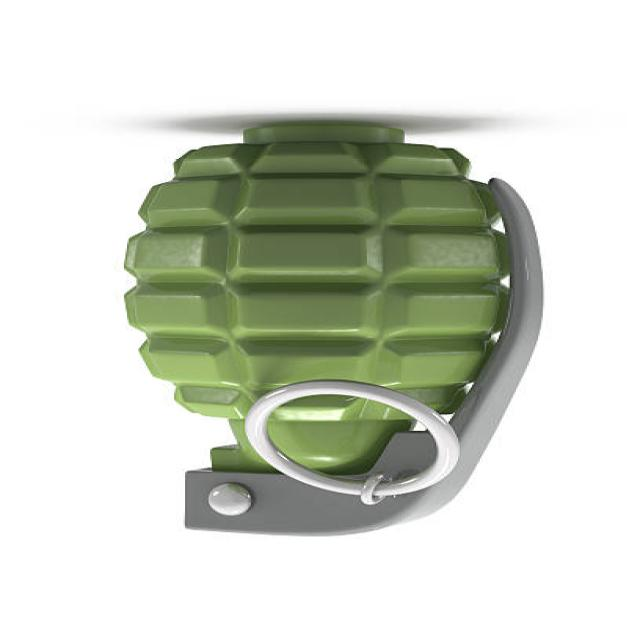grenade: (109, 113, 553, 545)
